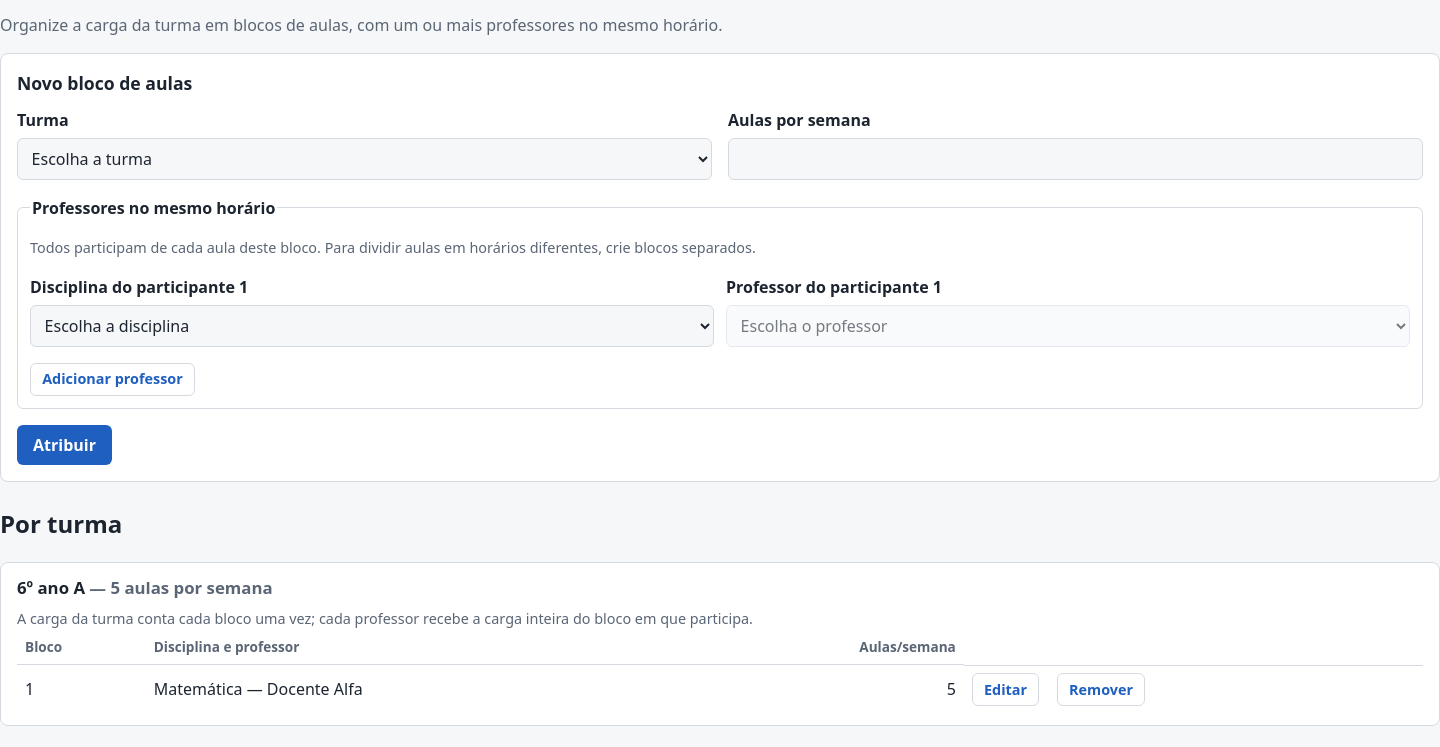
it: AssignmentsPage › edita professor e carga com a versão exibida
The width and height of the screenshot is (1440, 747).
Click the button with aria-label "Editar bloco 1 em 6º ano A" at (1006, 690), box [972,673,1039,706]
(page scrolled)
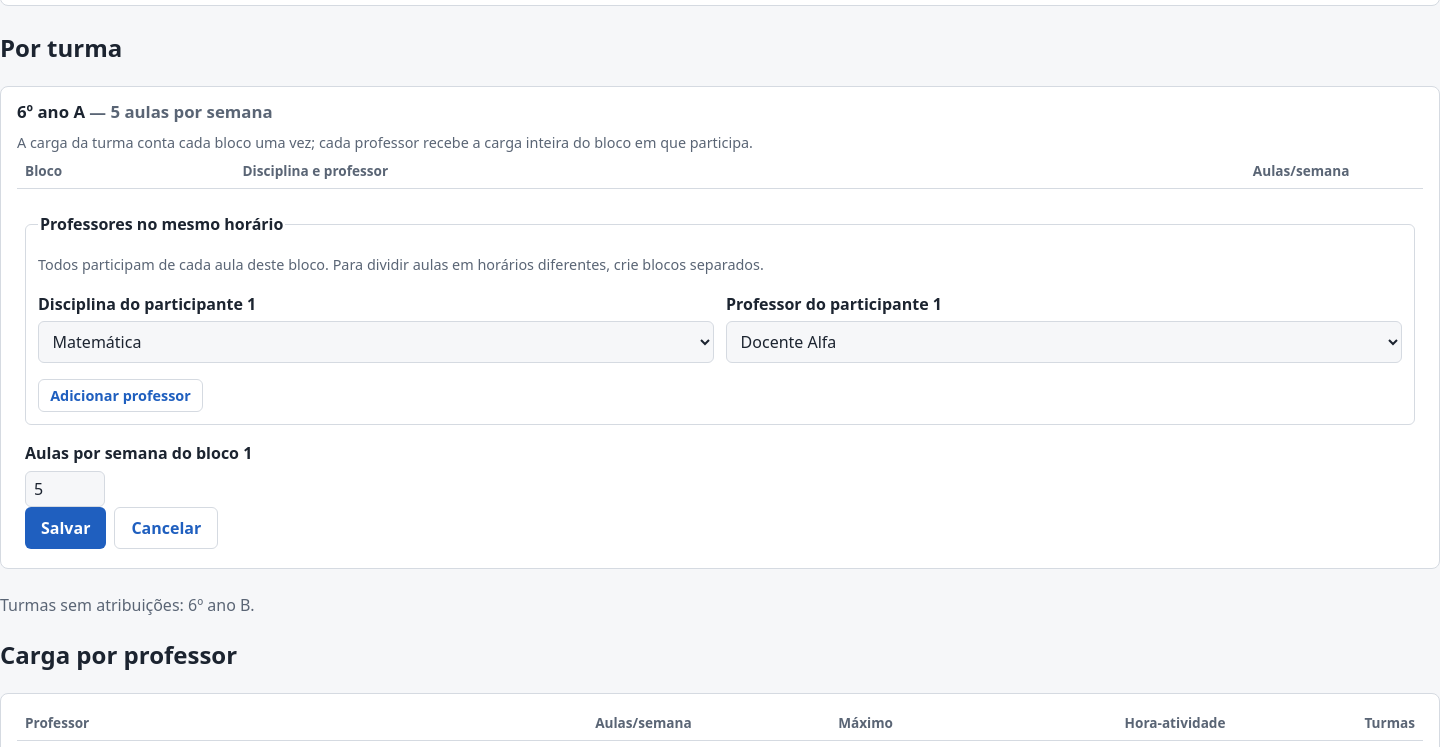
Select "Docente Beta" in the dropdown with id "edit-a1-teacher-0" at (1064, 342), box [726,321,1402,363]
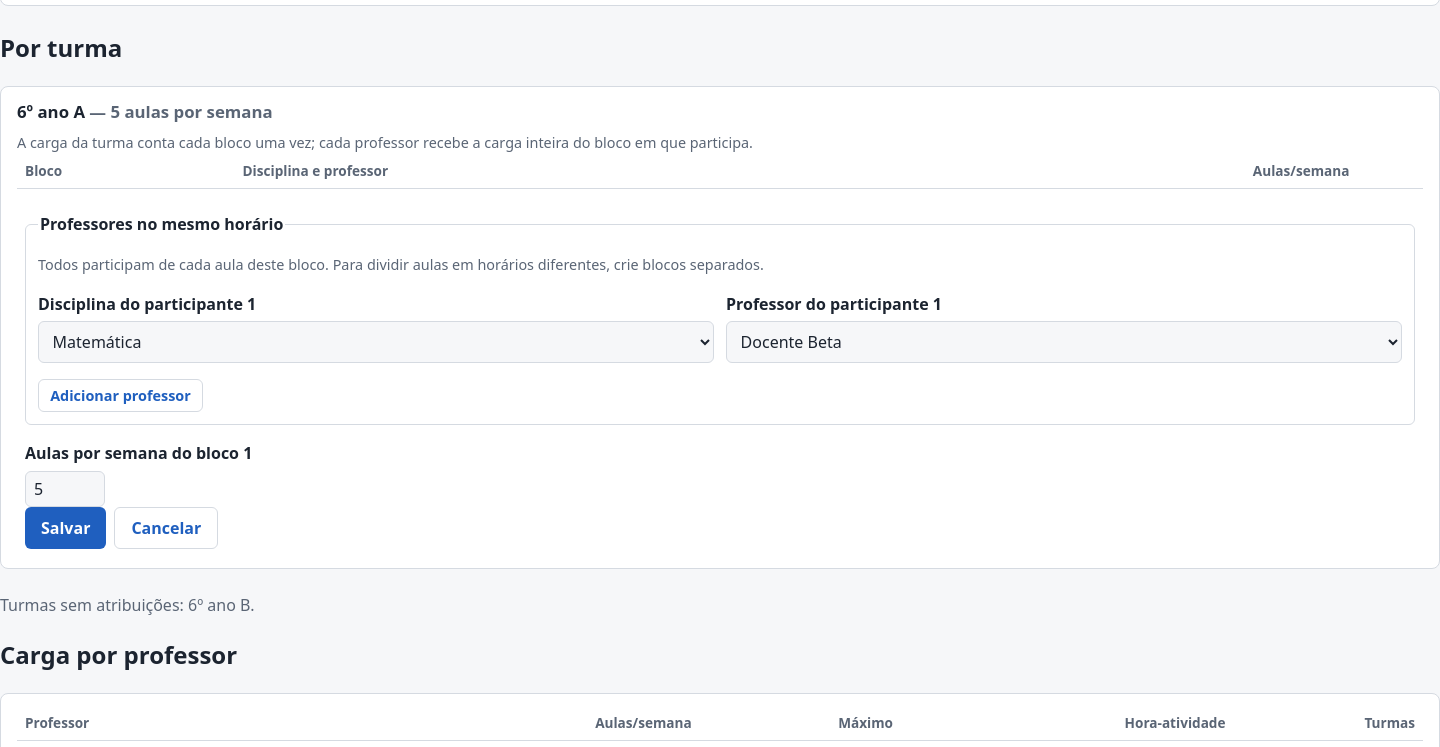
Replace the text in the number field with id "edit-lessons-a1" with "4" at (65, 489), box [25,471,105,507]
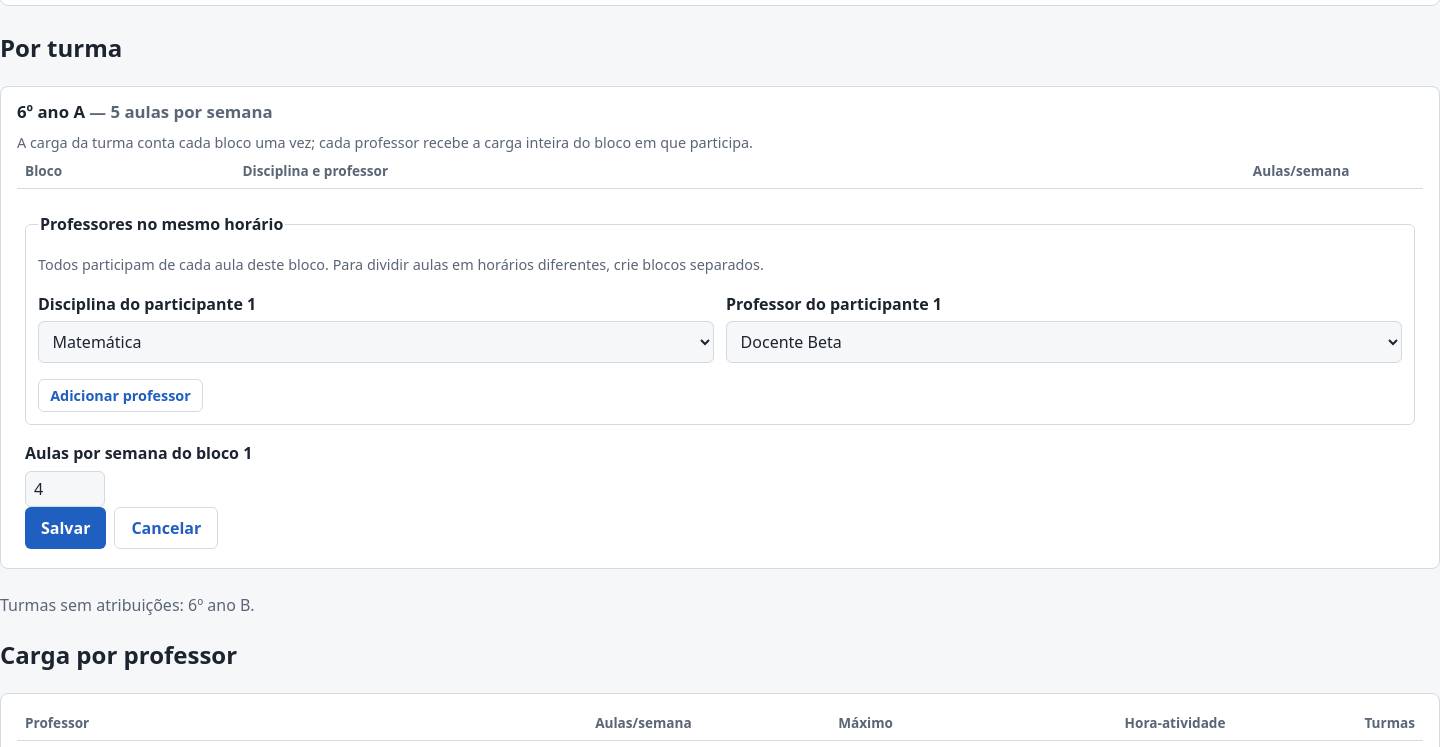
Submit the form named "Editar bloco 1 em 6º ano A", box [25,212,1415,549]
(page scrolled)
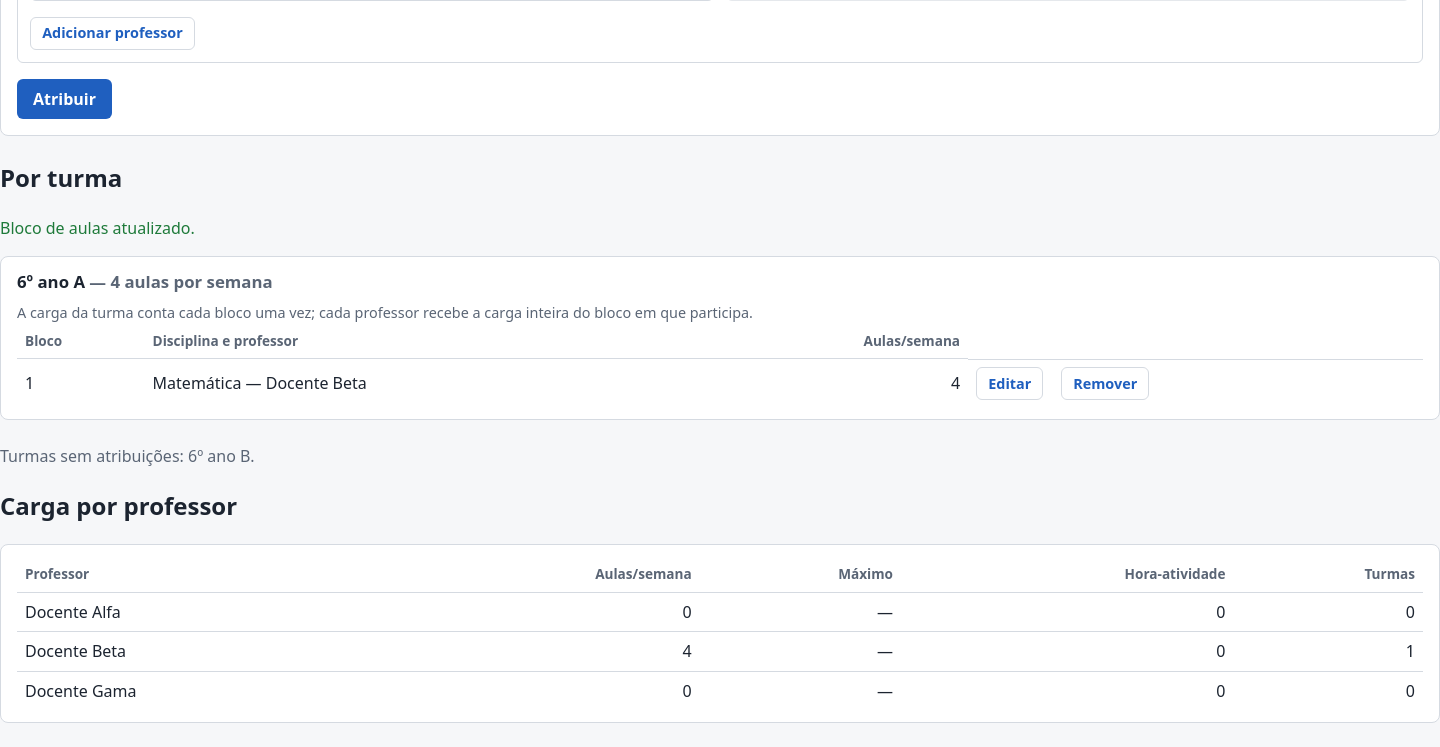
Check: the message "Bloco de aulas atualizado." is shown, box [0,217,195,239]
Check: the table "1 Matemática — Docente Beta 4 Editar Remover" is shown, box [17,359,1423,407]
